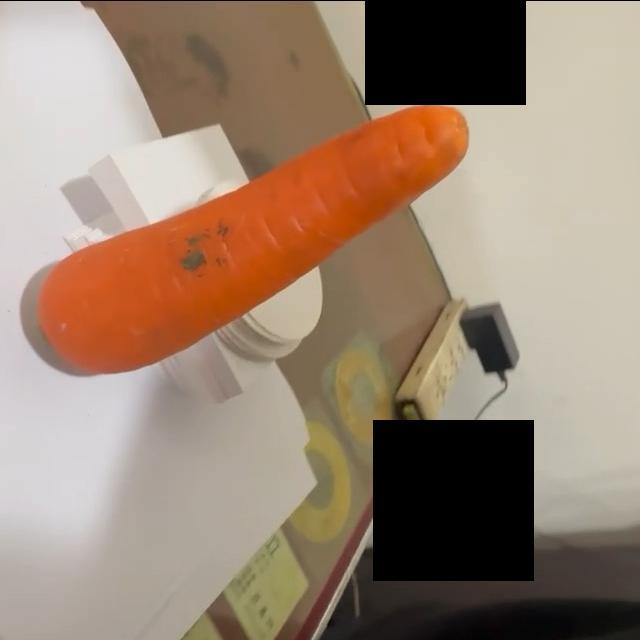carrot: (35, 105, 475, 375)
